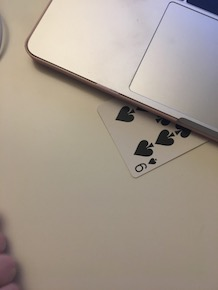NineOfSpades: (100, 88, 209, 185)
